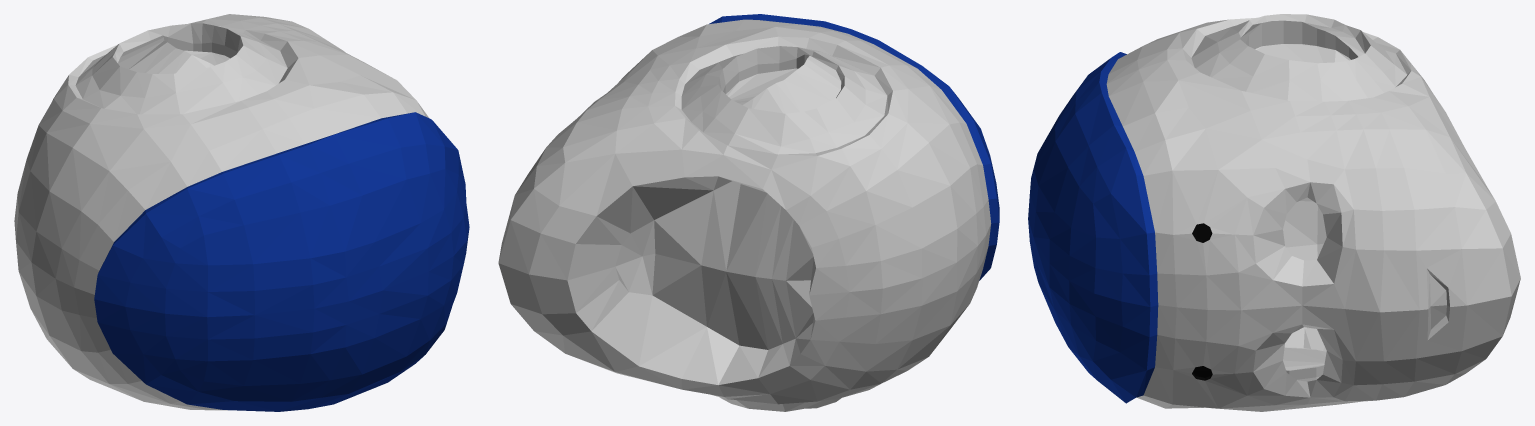
Rendered from HeadRoll.obj.
3 views of the same model, side by side, from view 1: azimuth 30°, elevation 25°; view 2: azimuth 150°, elevation 25°; view 3: azimuth 270°, elevation 25° (orthographic). The views are drawn at different scales.
Visible parts, largest first — view 1: HeadRoll; view 2: HeadRoll; view 3: HeadRoll.
Part boxes in pixels (x1,y1,x2,y2): HeadRoll: (14, 14, 469, 411); HeadRoll: (498, 14, 999, 411); HeadRoll: (1028, 14, 1520, 411).
Bounding box in the file's own units: 0.2203 × 0.1887 × 0.2395.
